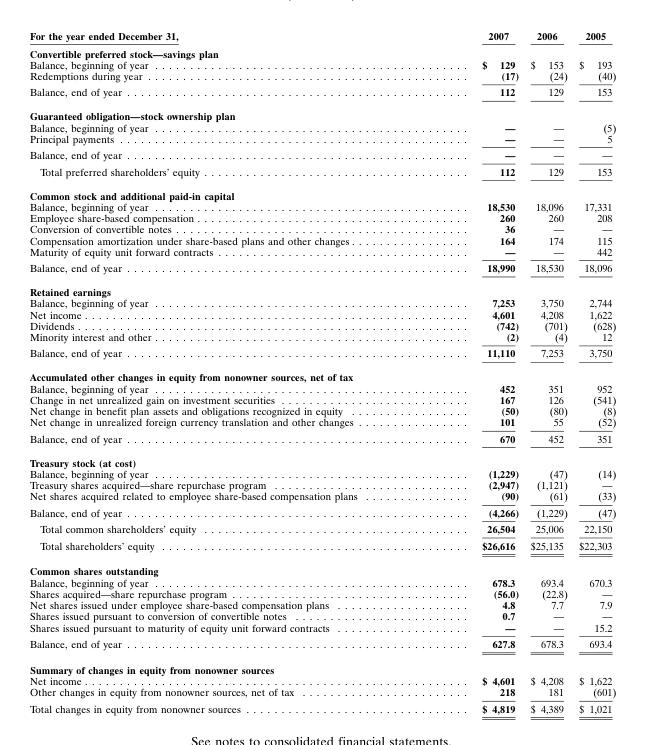table: (29, 28, 615, 714)
table column: (29, 28, 418, 714), (418, 28, 524, 714), (524, 28, 572, 714), (572, 28, 615, 714)
table column header: (29, 28, 615, 43)
table projected row header: (29, 557, 615, 576), (29, 103, 615, 121), (29, 279, 615, 297), (29, 364, 615, 382), (29, 656, 615, 674), (29, 183, 615, 200), (29, 450, 615, 467), (29, 43, 615, 58)
table row: (29, 162, 615, 183), (29, 429, 615, 450), (29, 536, 615, 557), (29, 635, 615, 656), (29, 83, 615, 103), (29, 259, 615, 279), (29, 344, 615, 364), (29, 557, 615, 576), (29, 103, 615, 121), (29, 279, 615, 297), (29, 364, 615, 382), (29, 656, 615, 674), (29, 183, 615, 200), (29, 450, 615, 467), (29, 146, 615, 162), (29, 504, 615, 520), (29, 520, 615, 536), (29, 28, 615, 43), (29, 43, 615, 58), (29, 699, 615, 714), (29, 69, 615, 83), (29, 132, 615, 146), (29, 245, 615, 259), (29, 330, 615, 344), (29, 490, 615, 504), (29, 621, 615, 635), (29, 416, 615, 429), (29, 686, 615, 699), (29, 211, 615, 223), (29, 404, 615, 416), (29, 478, 615, 490), (29, 598, 615, 610), (29, 674, 615, 686), (29, 58, 615, 69), (29, 121, 615, 132), (29, 200, 615, 211), (29, 223, 615, 234), (29, 234, 615, 245), (29, 297, 615, 308), (29, 308, 615, 319), (29, 319, 615, 330), (29, 382, 615, 393), (29, 393, 615, 404), (29, 467, 615, 478), (29, 576, 615, 587), (29, 587, 615, 598), (29, 610, 615, 621)
